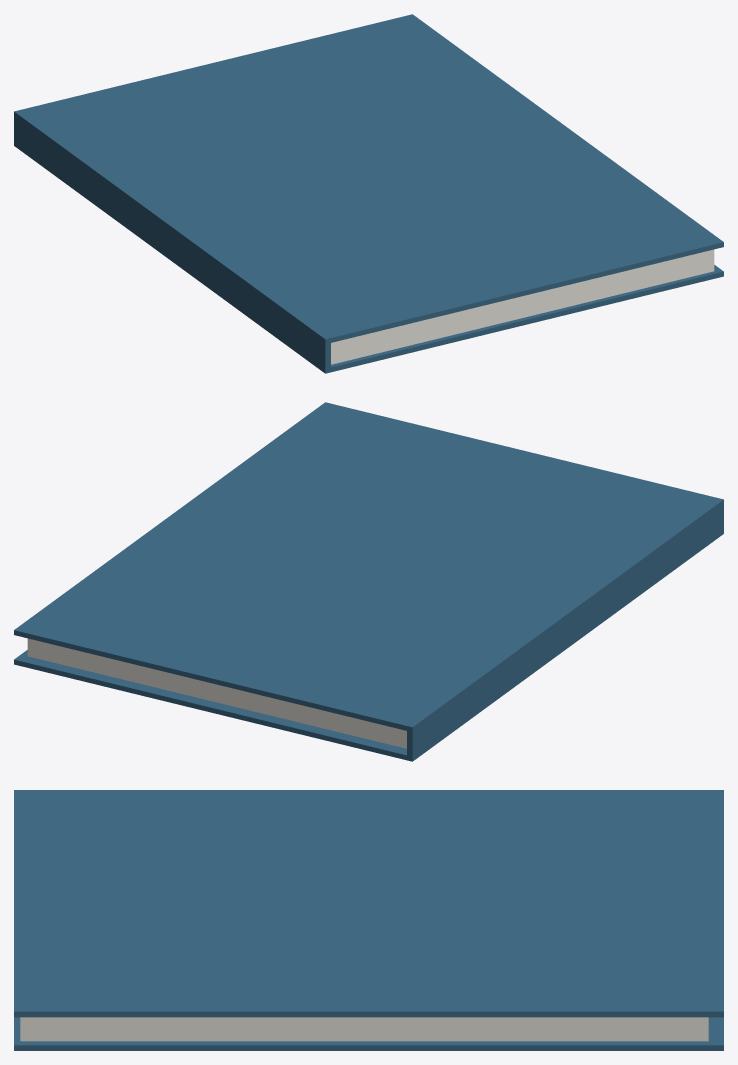
File: Cuaderno.fbx
3 views of the same model, one above another, from view 1: azimuth 30°, elevation 25°; view 2: azimuth 150°, elevation 25°; view 3: azimuth 270°, elevation 25° (orthographic). The views are drawn at different scales.
Parts seen in each view (by area): view 1: Cuaderno; view 2: Cuaderno; view 3: Cuaderno.
Boxes of the visible parts, box(x1,y1,x2,y2) form: Cuaderno: box(14, 14, 723, 373); Cuaderno: box(14, 402, 723, 761); Cuaderno: box(14, 790, 723, 1050).
Size of the model in its own units: 0.17 by 0.014 by 0.23.
